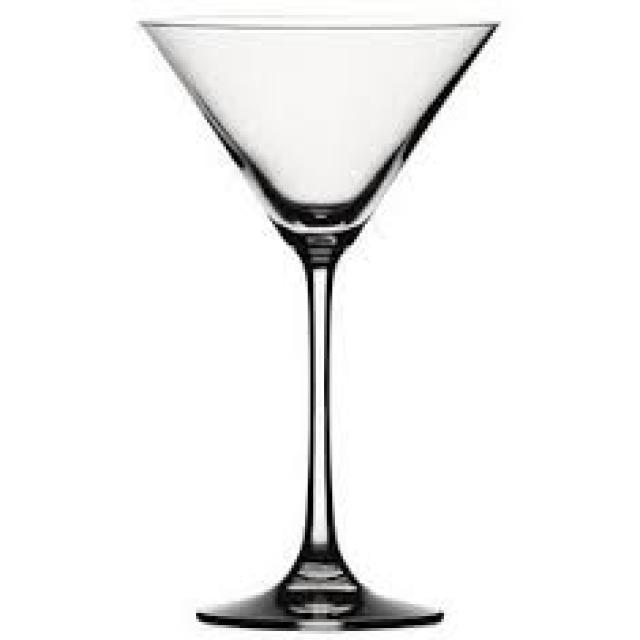Glass: (138, 2, 528, 640)
